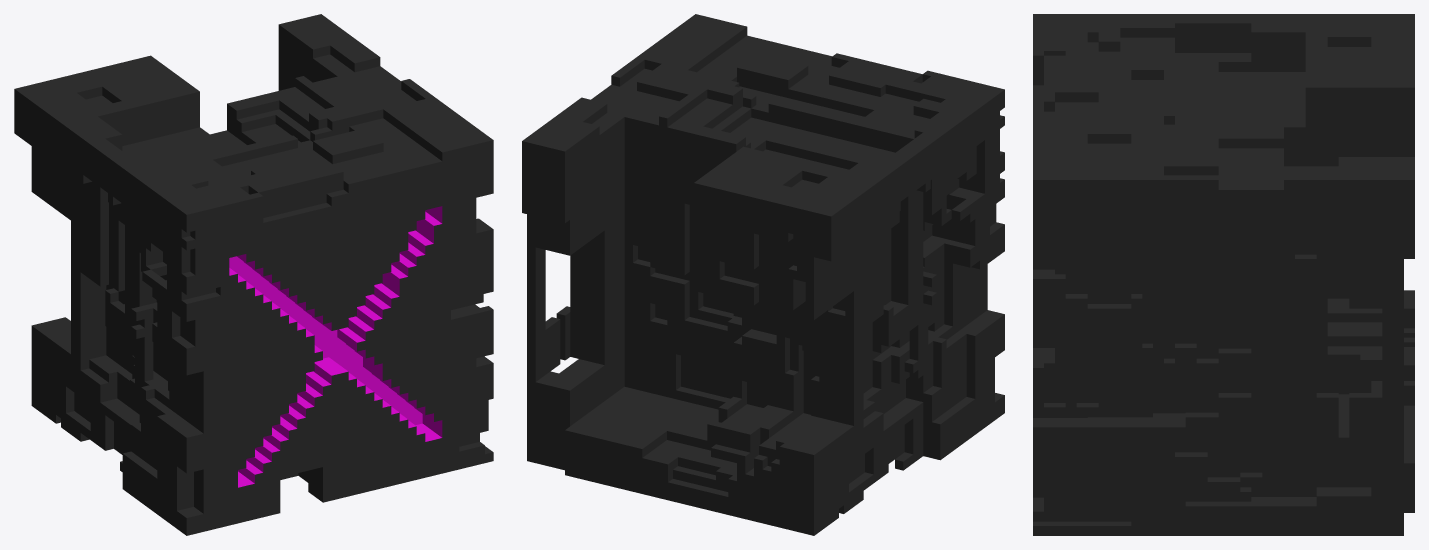
File: SalirButton.fbx
3 renders of one model, left to right at view 1: azimuth 30°, elevation 25°; view 2: azimuth 150°, elevation 25°; view 3: azimuth 270°, elevation 25°, orthographic. The views are drawn at different scales.
Parts seen in each view (by area): view 1: btn_salir_1:polySurface1; view 2: btn_salir_1:polySurface1; view 3: btn_salir_1:polySurface1.
Part boxes in pixels (x1,y1,x2,y2): btn_salir_1:polySurface1: (14,14,493,535); btn_salir_1:polySurface1: (522,14,1004,535); btn_salir_1:polySurface1: (1033,14,1414,535).
Size of the model in its own units: 3.6 by 3.6 by 3.5.
